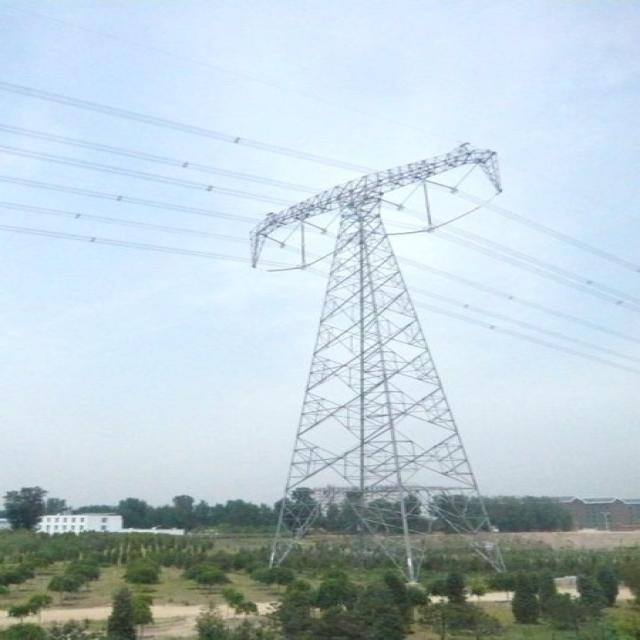non-critical vegetation: (203, 139, 558, 573)
